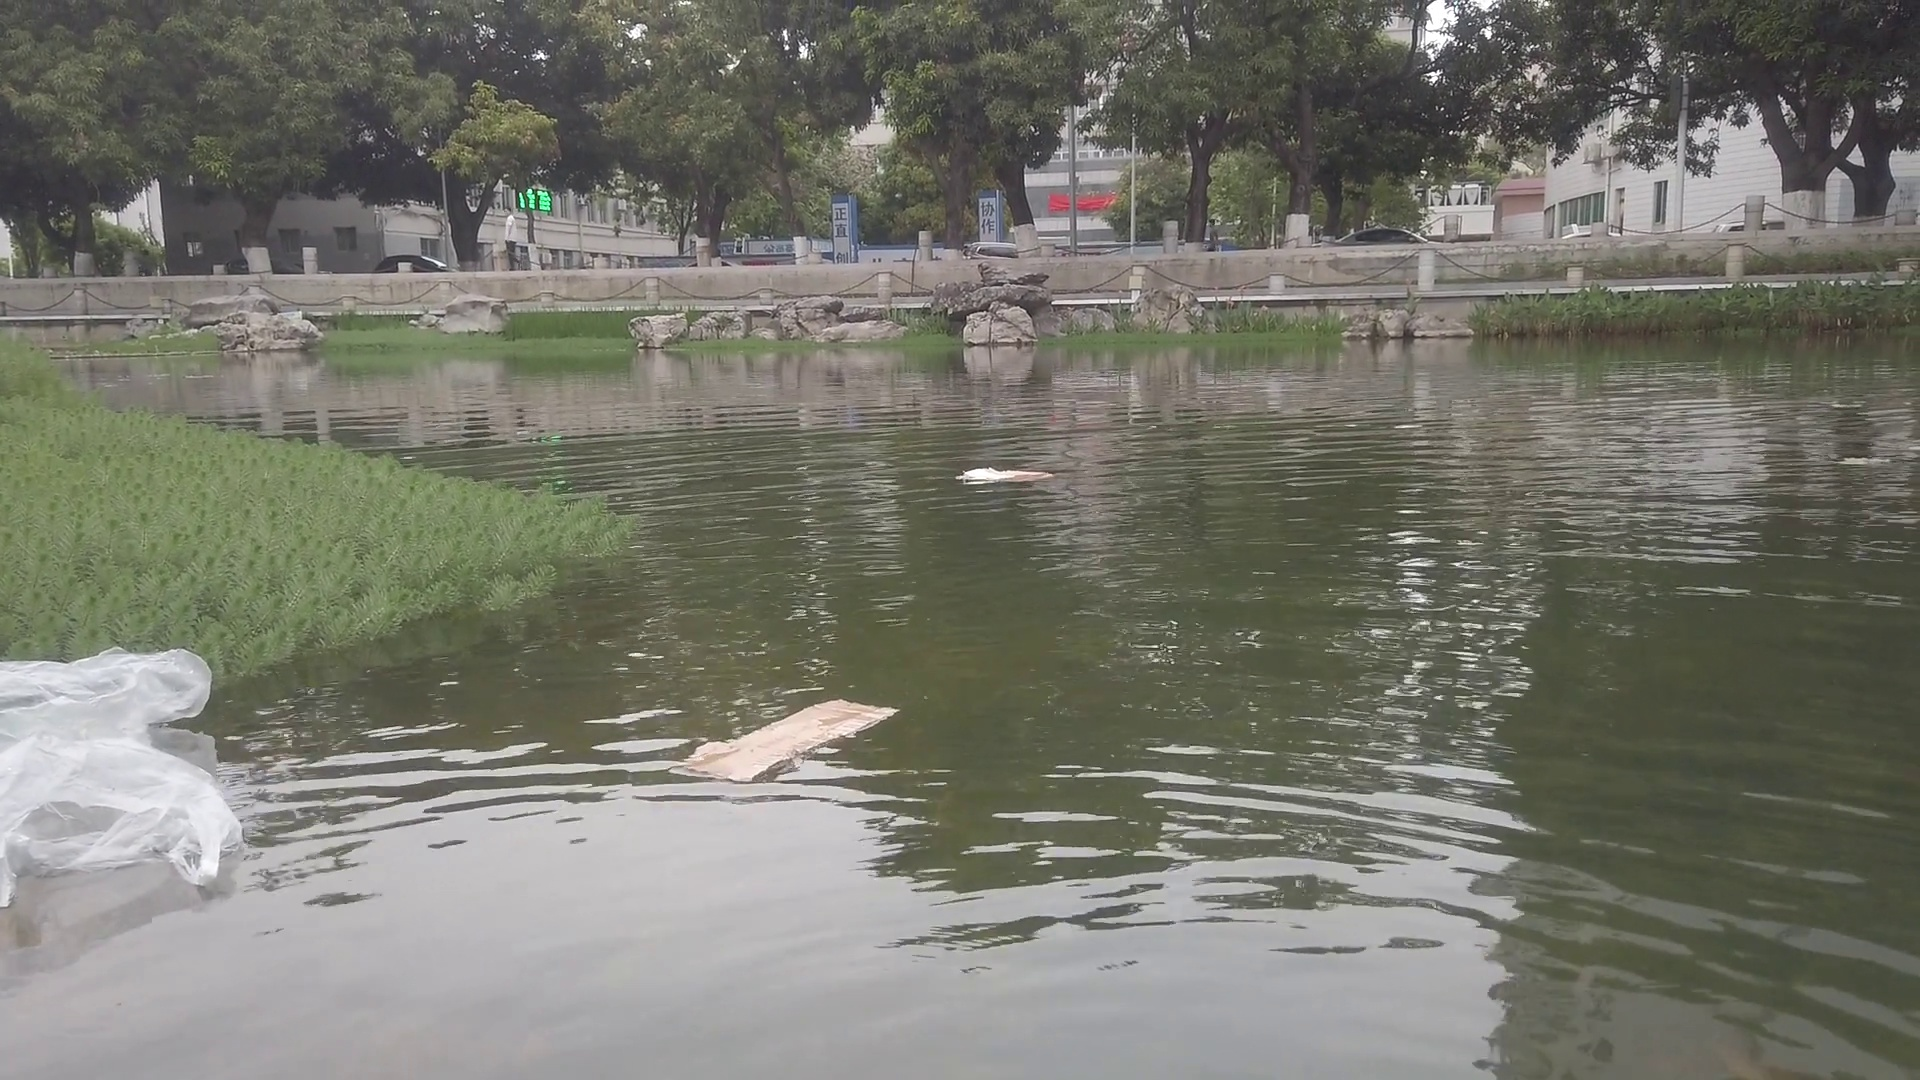paper: (670, 700, 899, 775), (956, 463, 1052, 483)
plastic: (3, 735, 229, 887), (4, 654, 211, 727)
